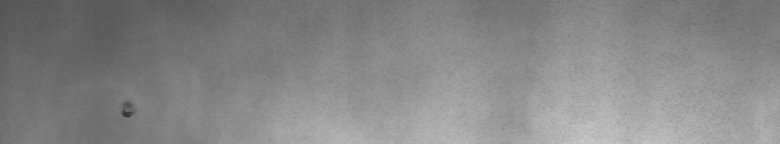fi: (116, 96, 137, 124)
